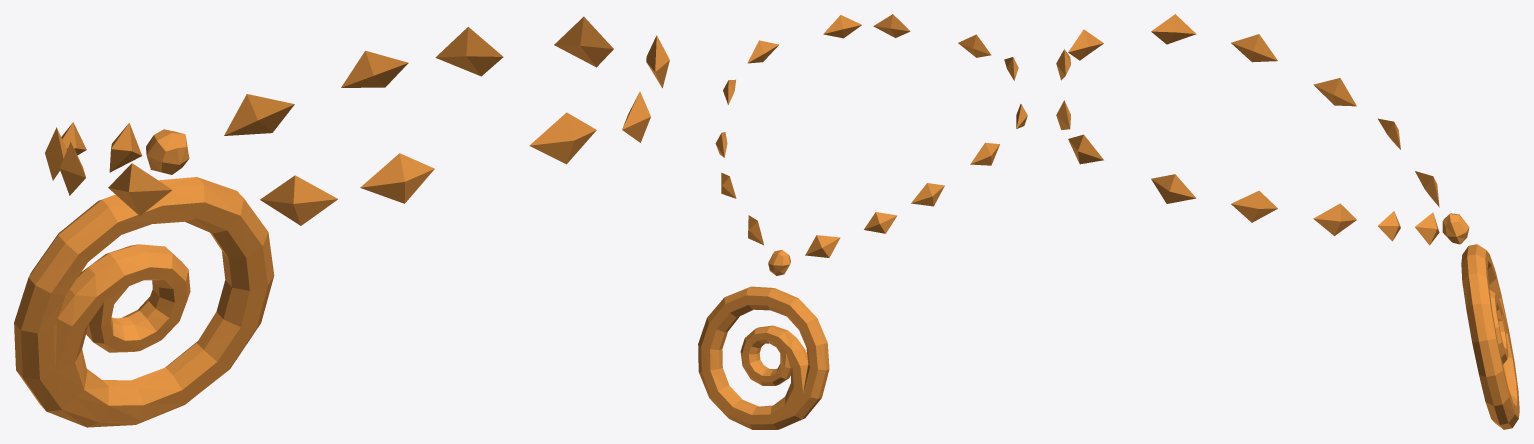
Rendered from CharSkyKid_Neck_AP02Pendant.glb.
3 views of the same model, side by side, from view 1: azimuth 30°, elevation 25°; view 2: azimuth 150°, elevation 25°; view 3: azimuth 270°, elevation 25° (orthographic). The views are drawn at different scales.
Parts seen in each view (by area): view 1: CharSkyKid_Neck_AP02Pendant; view 2: CharSkyKid_Neck_AP02Pendant; view 3: CharSkyKid_Neck_AP02Pendant.
Boxes of the visible parts, x1=… form: CharSkyKid_Neck_AP02Pendant: x1=14, y1=16, x2=669, y2=427; CharSkyKid_Neck_AP02Pendant: x1=698, y1=14, x2=1027, y2=429; CharSkyKid_Neck_AP02Pendant: x1=1056, y1=14, x2=1519, y2=429.
Size of the model in its own units: 1.79 by 1.74 by 2.12.
1 material, 1 textured.
